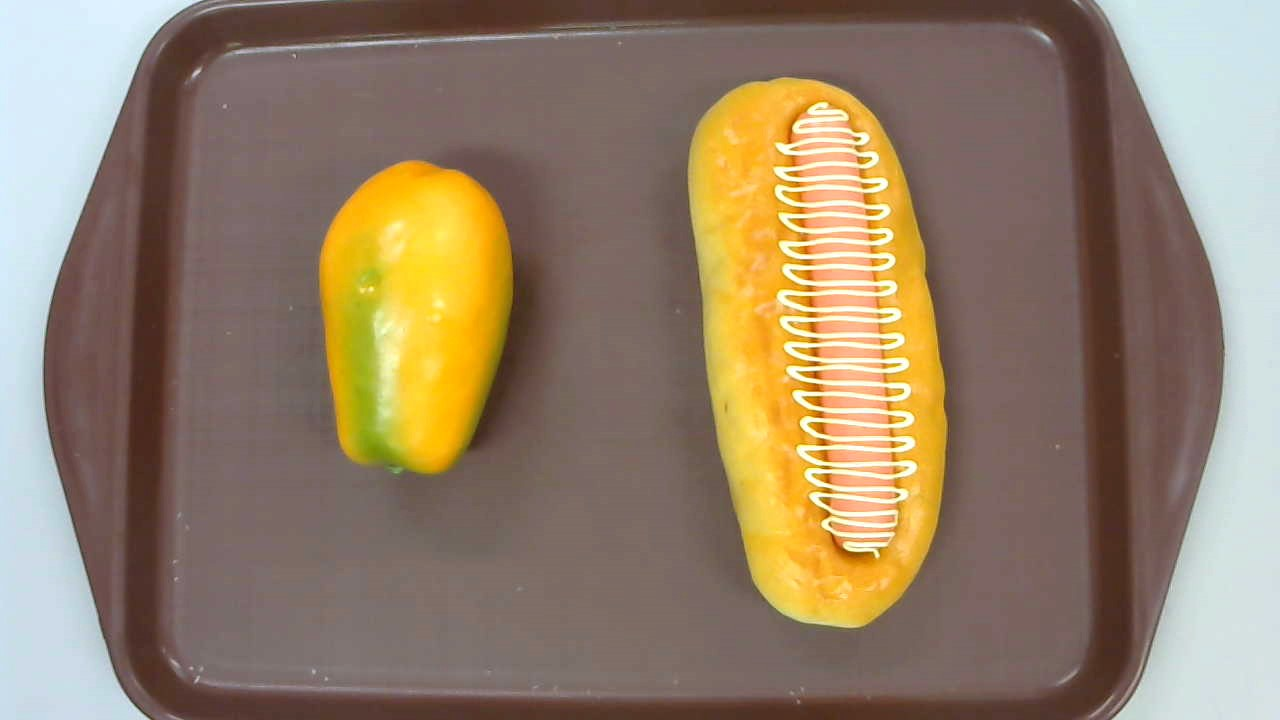hot dog: (687, 77, 947, 628)
papya: (318, 159, 514, 475)
